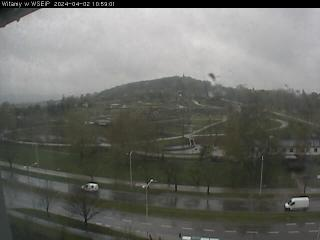car: (285, 196, 310, 212), (81, 181, 99, 194)
